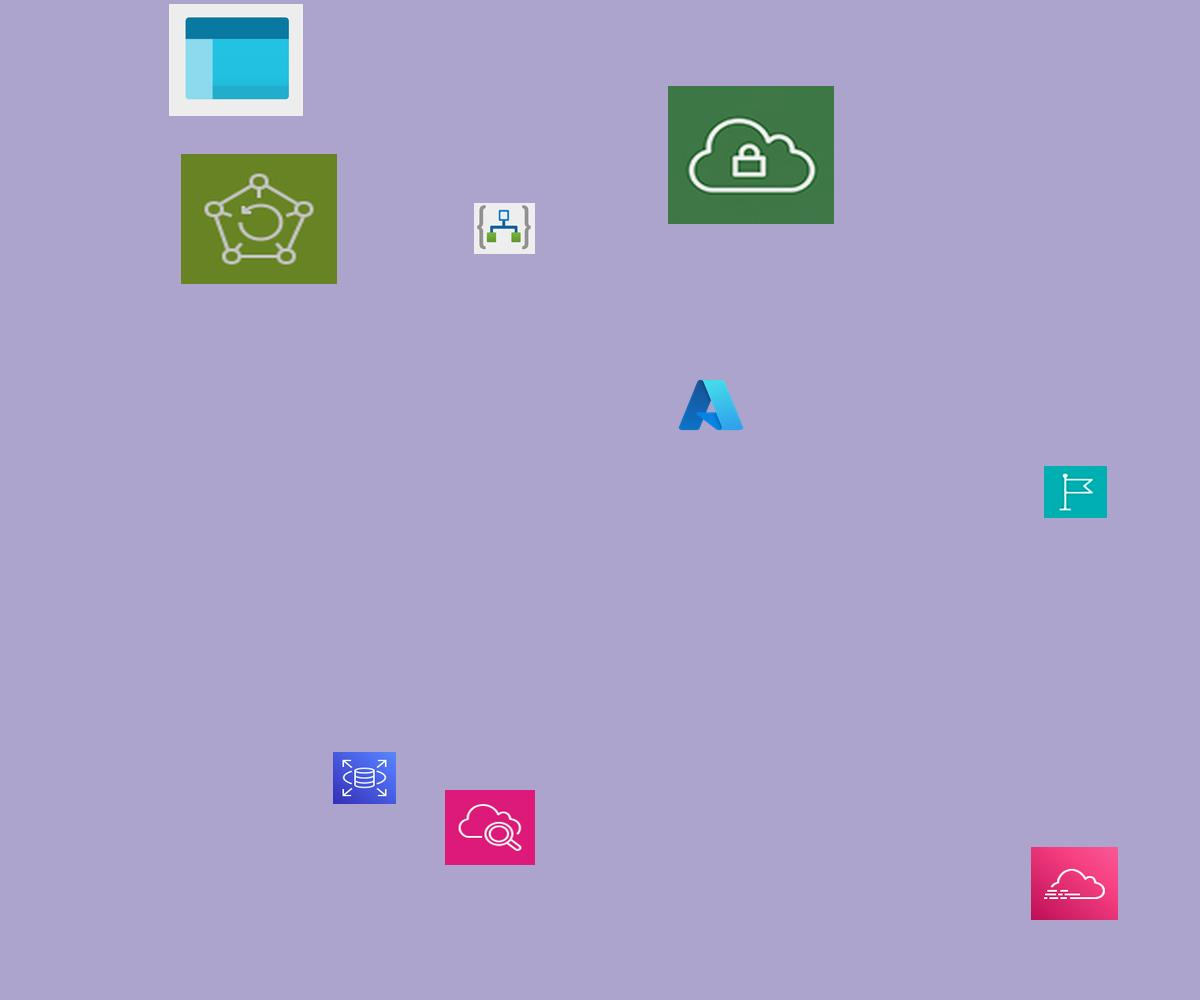AWS-Backup: (181, 154, 337, 284)
AWS-CloudTrail: (1031, 847, 1118, 920)
AWS-CloudWatch: (445, 790, 535, 865)
AWS-Private_vpc: (668, 86, 834, 224)
AWS-RDS: (333, 752, 396, 804)
AWS-Region: (1044, 466, 1107, 518)
Azure_integration-204-Logic-Apps: (474, 203, 535, 254)
Azure_management-portal: (169, 4, 303, 116)
Azure_services: (676, 376, 746, 434)
